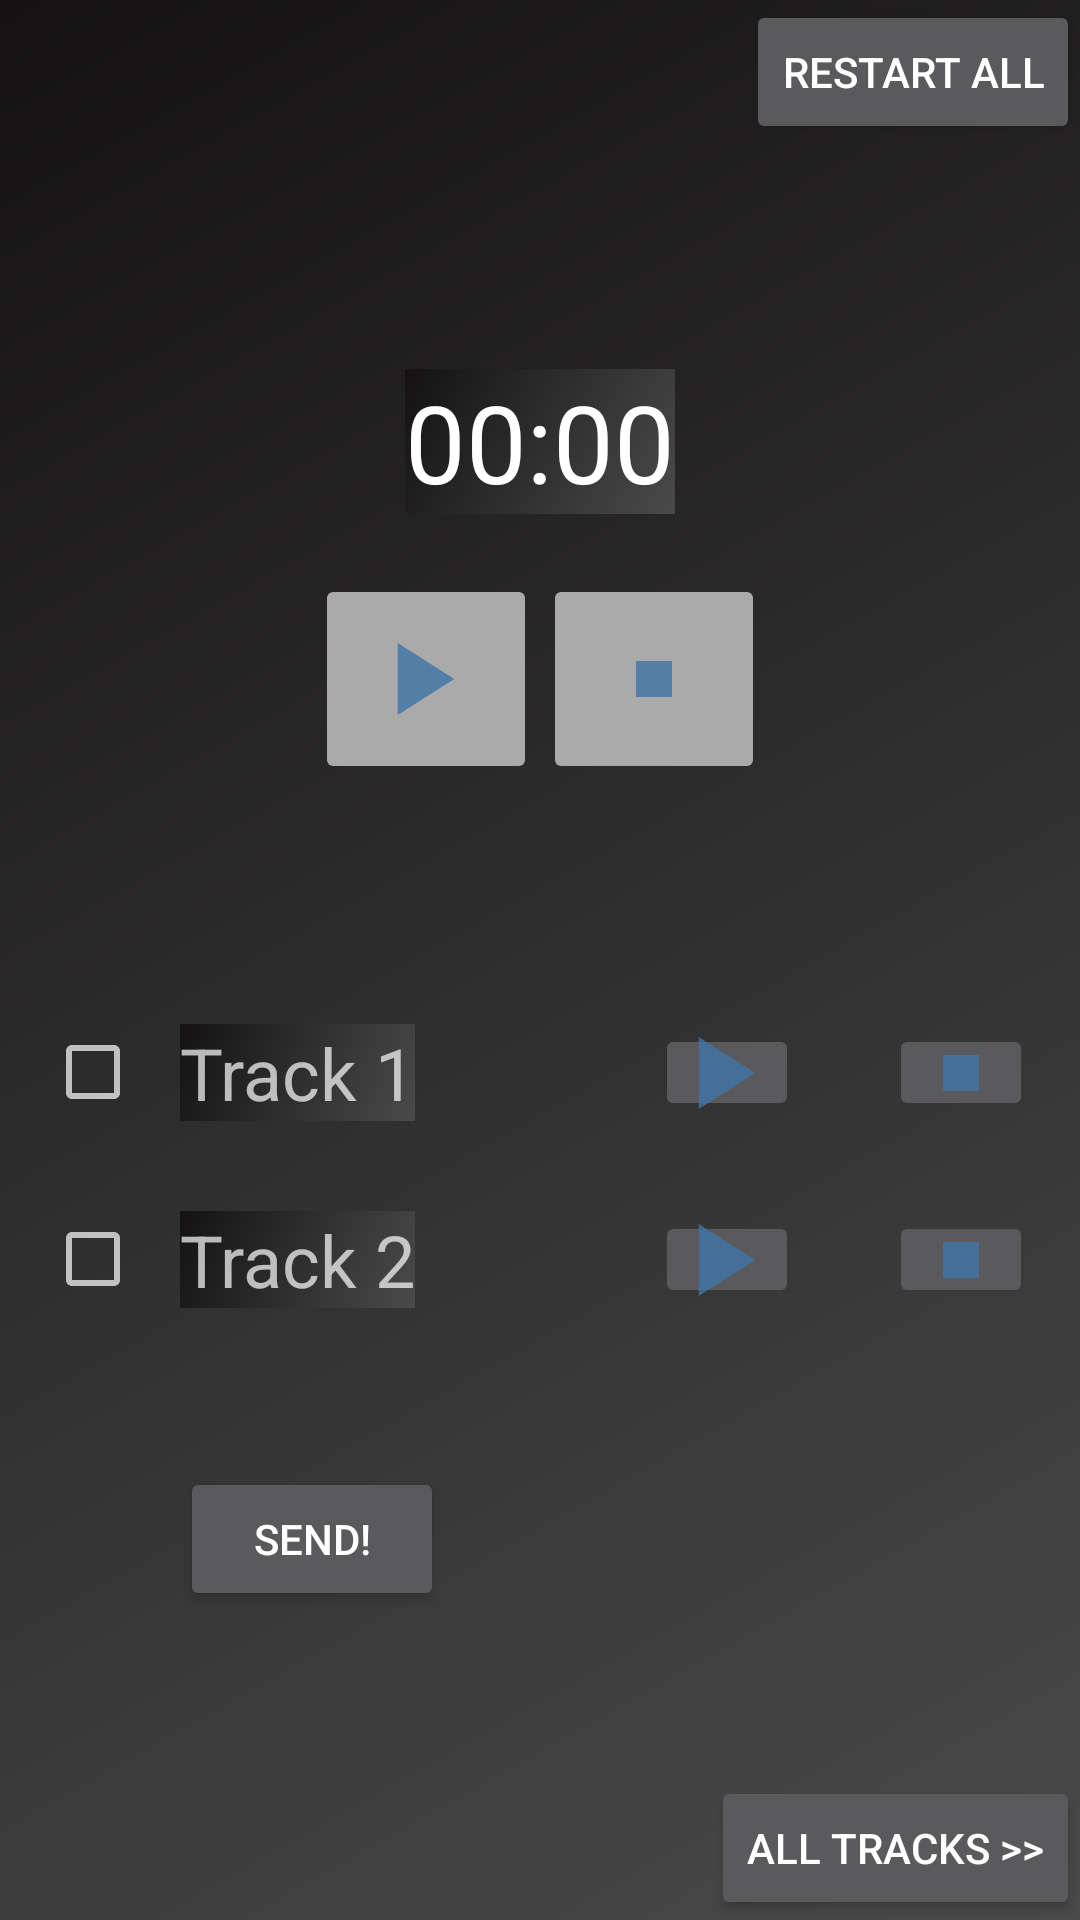

Where to tap for icons on this 1080 × 1920 app screen, as (x,y):
play track: (727,1073), (727,1260)
stop track: (654,679), (961,1072), (961,1259)
